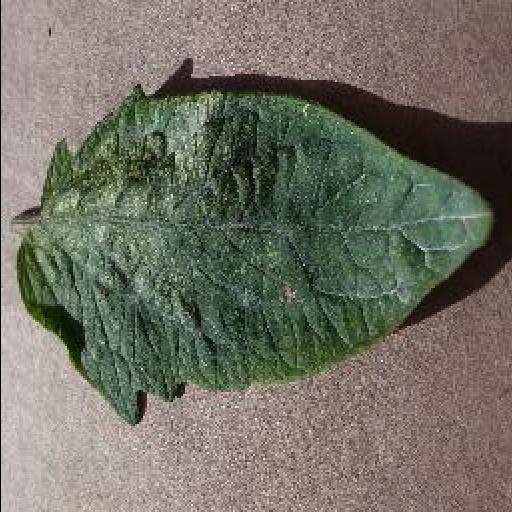disease_tomato: (14, 88, 494, 424)
